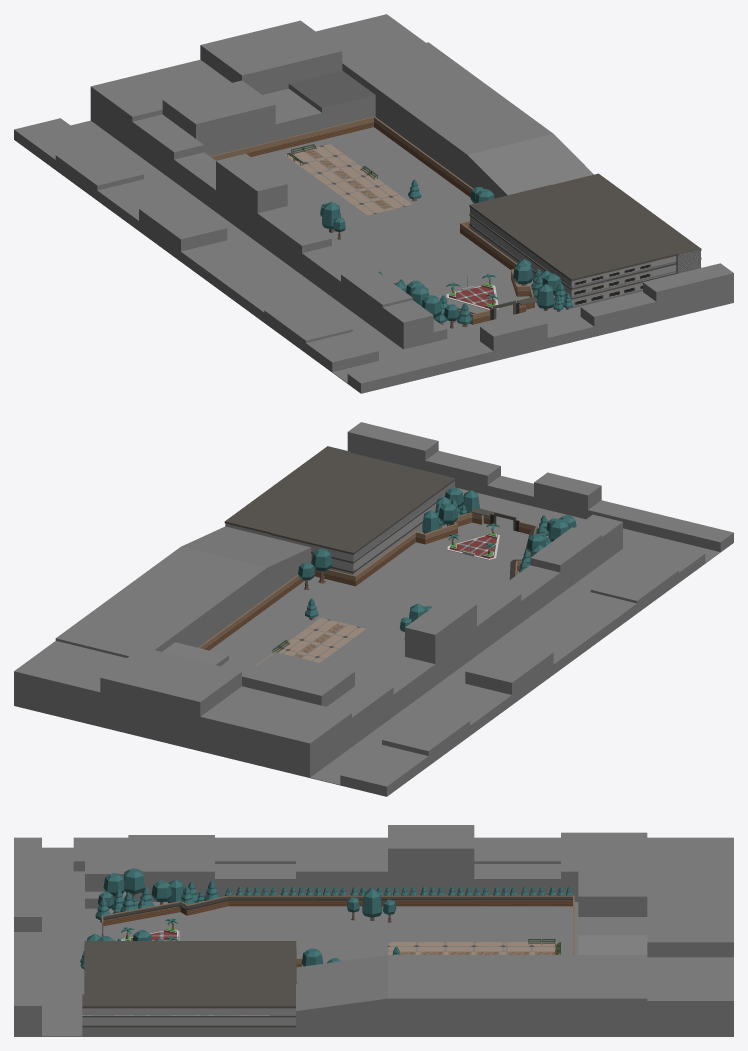
File: qcu_base.glb
The picture shows the model from 3 angles, top to bottom: view 1: azimuth 30°, elevation 25°; view 2: azimuth 150°, elevation 25°; view 3: azimuth 270°, elevation 25°; orthographic projection. The views are drawn at different scales.
Visible parts, largest first — view 1: Cube, wall, Triangle; view 2: Cube, wall, Triangle; view 3: Cube, wall, tree_fat_darkh.001, tree_oak_dark.008, tree_oak_dark.007, tree_oak_dark.004.
Part boxes in pixels (bbox=[...]): Cube: bbox=[14, 14, 733, 393]; wall: bbox=[210, 116, 537, 324]; Triangle: bbox=[446, 276, 498, 310]; Cube: bbox=[14, 422, 733, 796]; wall: bbox=[198, 508, 537, 650]; Triangle: bbox=[447, 532, 499, 560]; Cube: bbox=[14, 825, 733, 1036]; wall: bbox=[102, 895, 574, 967]; tree_fat_darkh.001: bbox=[362, 889, 382, 920]; tree_oak_dark.008: bbox=[123, 868, 144, 897]; tree_oak_dark.007: bbox=[103, 873, 124, 898]; tree_oak_dark.004: bbox=[151, 880, 171, 904].
Size of the model in its own units: 16.02 by 2.17 by 25.8.
9 materials, 5 textured.
